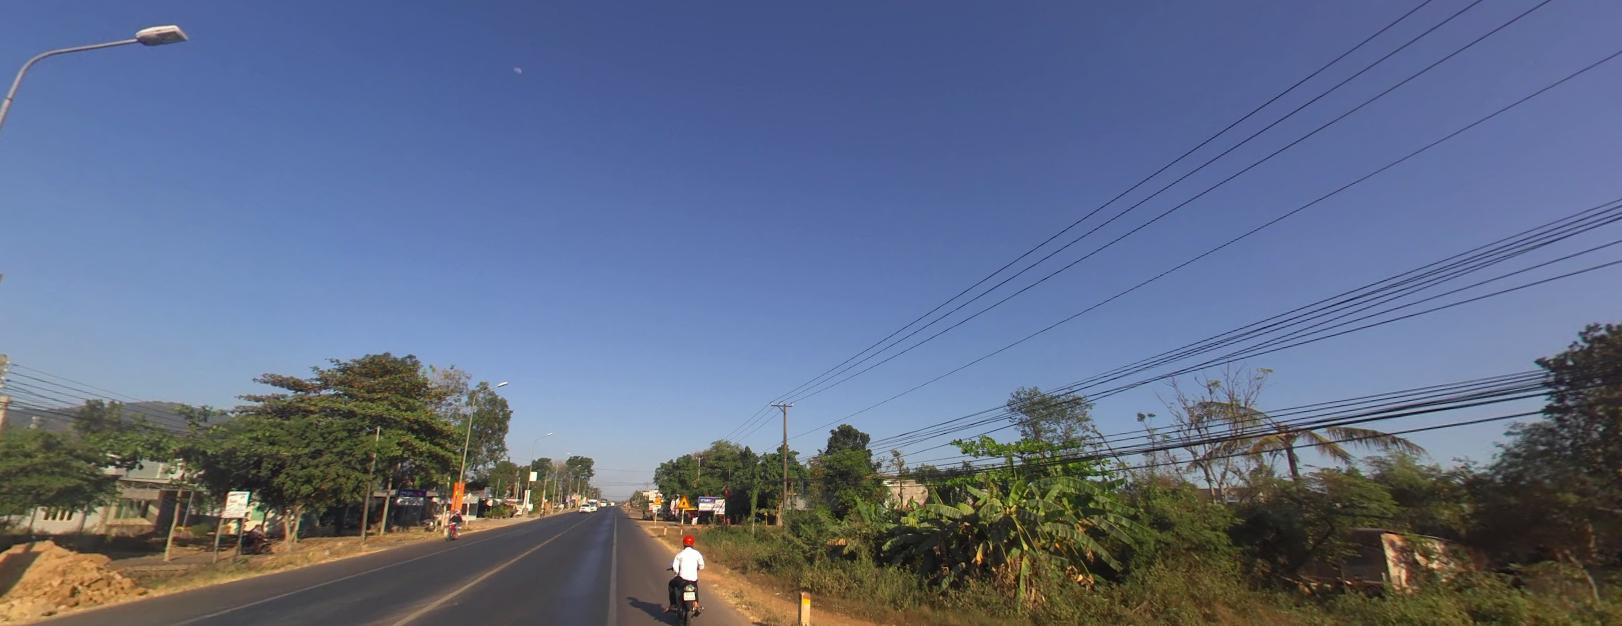Nguy hiem: (675, 494, 691, 507), (675, 494, 690, 507), (675, 494, 690, 506), (675, 494, 689, 506), (652, 494, 662, 503), (652, 495, 661, 503), (653, 495, 662, 503), (653, 495, 661, 503)
